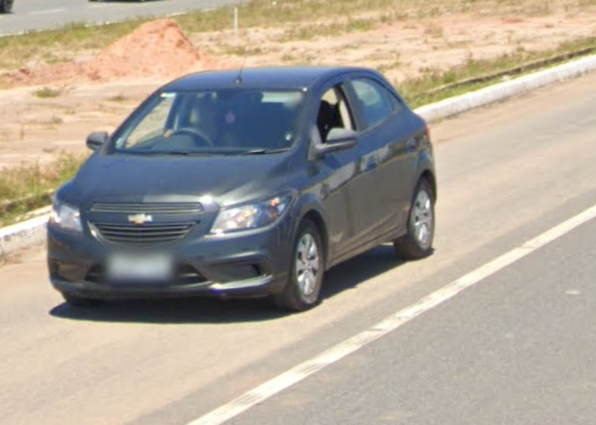car: (42, 49, 439, 315)
